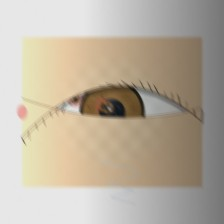foreign_body_visible: (91, 94, 125, 121)
